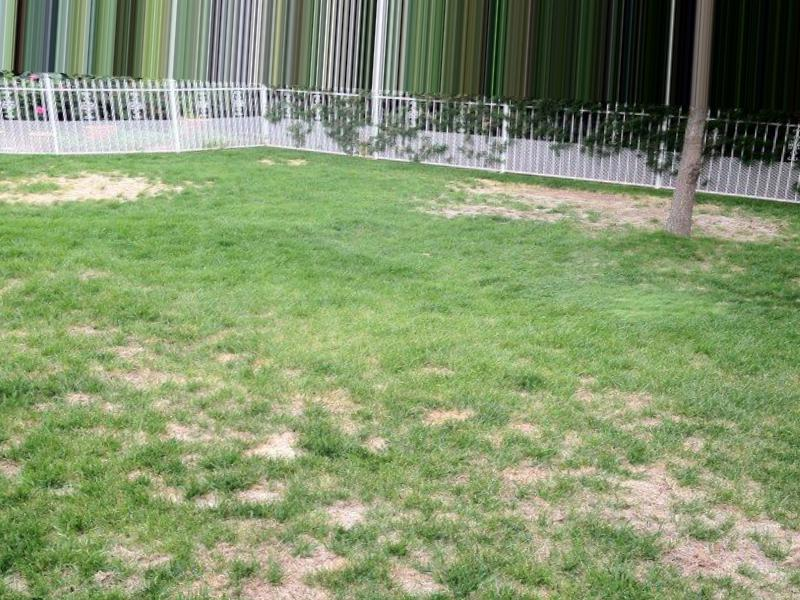patch: (418, 405, 694, 561), (104, 351, 319, 527), (482, 173, 729, 260), (21, 162, 231, 225), (223, 535, 352, 577), (250, 150, 316, 175)
